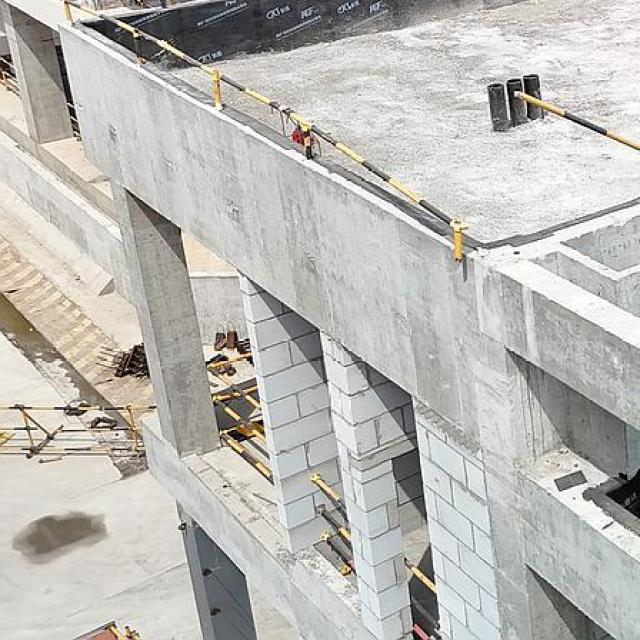edge_guardrail: (63, 0, 463, 261), (206, 351, 274, 486), (513, 88, 640, 152), (310, 473, 357, 574), (402, 556, 439, 630), (0, 55, 21, 95)
